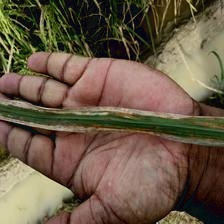Leaf_Blast: (0, 102, 219, 140)
